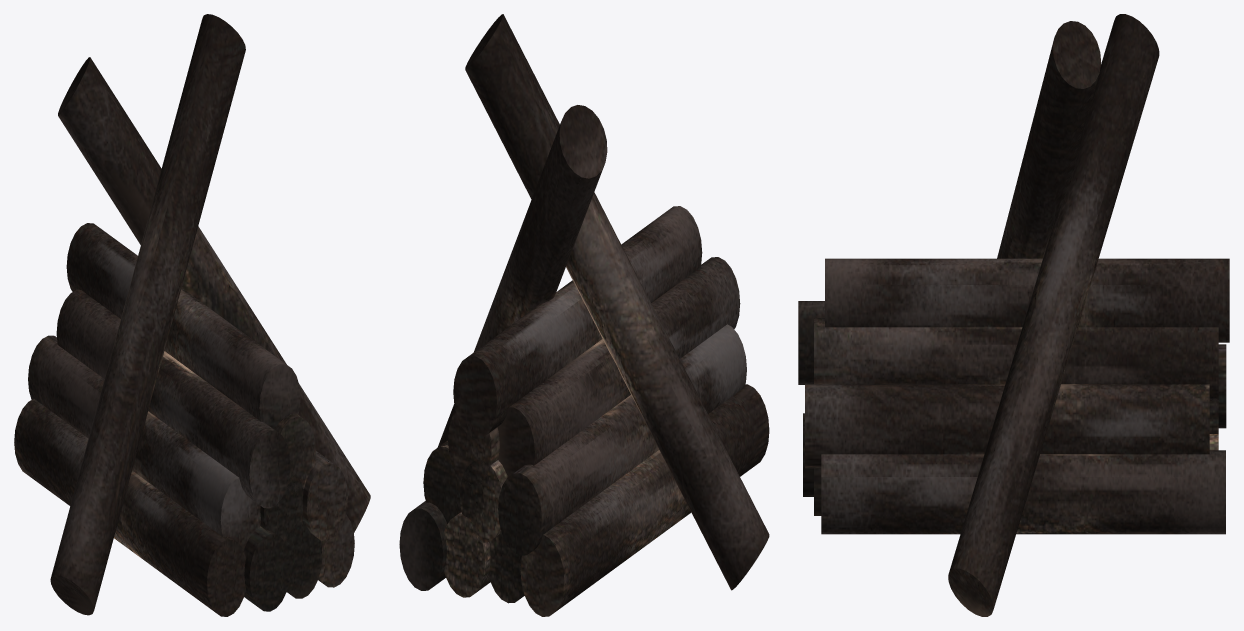
File: rubble02.fbx
The picture shows the model from 3 angles, left to right: view 1: azimuth 30°, elevation 25°; view 2: azimuth 150°, elevation 25°; view 3: azimuth 270°, elevation 25°; orthographic projection. The views are drawn at different scales.
Parts seen in each view (by area): view 1: pCylinder13; view 2: pCylinder13; view 3: pCylinder13.
Part boxes in pixels (x1,y1,x2,y2): pCylinder13: (14, 14, 370, 616); pCylinder13: (399, 14, 769, 616); pCylinder13: (798, 14, 1229, 616).
Size of the model in its own units: 1098 by 1763 by 1247.
Materials: 1 (1 with a texture image).
